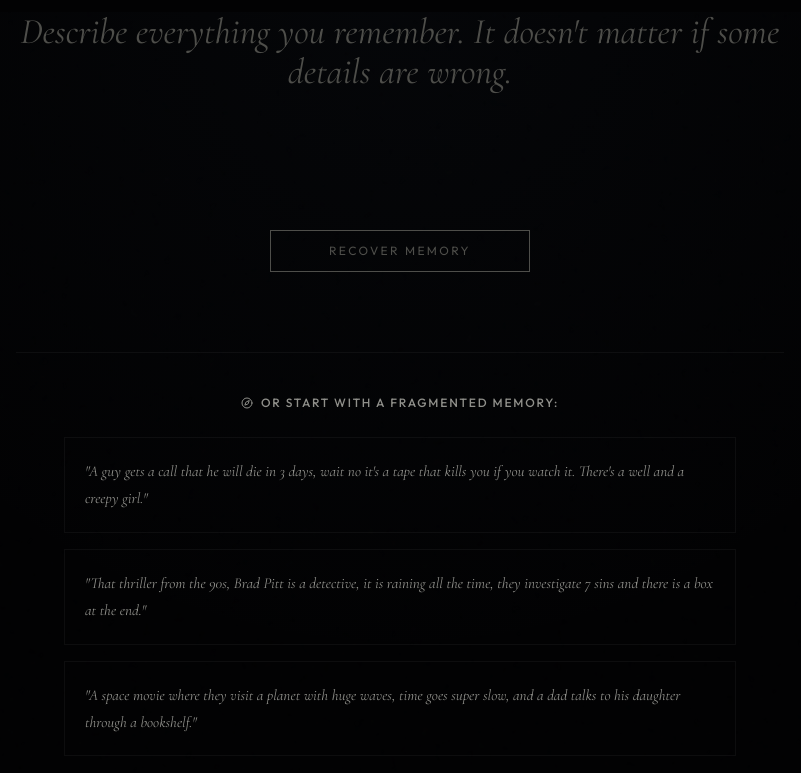
Test case: DetectiveConsole Component (Step 1) › renders correctly, and suggestions disappear upon typing
The image size is (801, 773).
Expected: the text "Or start with a fragmented memory:" is shown, [261,393,559,413]
Type inside textarea
Replace the text in the text box with placeholder "Describe everything you remember" with "Something": (400, 92) [16,12,784,172]
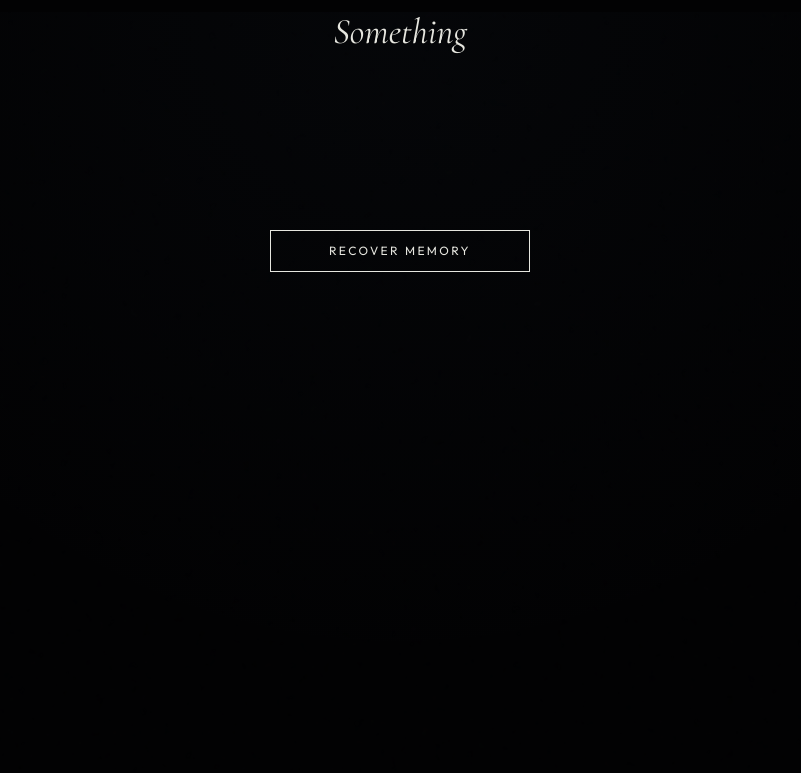
Now the text "Or start with a fragmented memory" is gone
